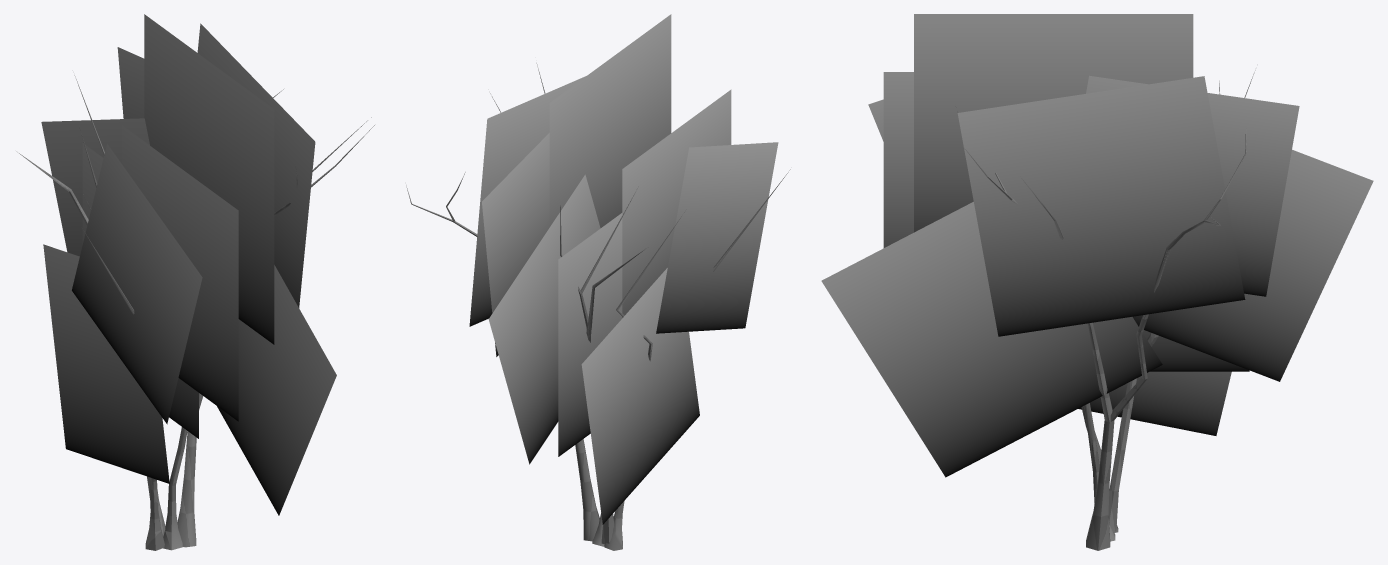
Rendered from tree1.FBX.
The picture shows the model from 3 angles, left to right: view 1: azimuth 30°, elevation 25°; view 2: azimuth 150°, elevation 25°; view 3: azimuth 270°, elevation 25°; orthographic projection. The views are drawn at different scales.
Visible parts, largest first — view 1: leafs, trunc; view 2: leafs, trunc; view 3: leafs, trunc.
Part boxes in pixels (left/top/right/bottom): leafs: left=41, top=14, right=336, bottom=515; trunc: left=16, top=75, right=374, bottom=550; leafs: left=469, top=14, right=778, bottom=524; trunc: left=406, top=63, right=790, bottom=550; leafs: left=821, top=14, right=1373, bottom=477; trunc: left=957, top=70, right=1255, bottom=550.
Size of the model in its own units: 2.96 by 4.53 by 4.26.
